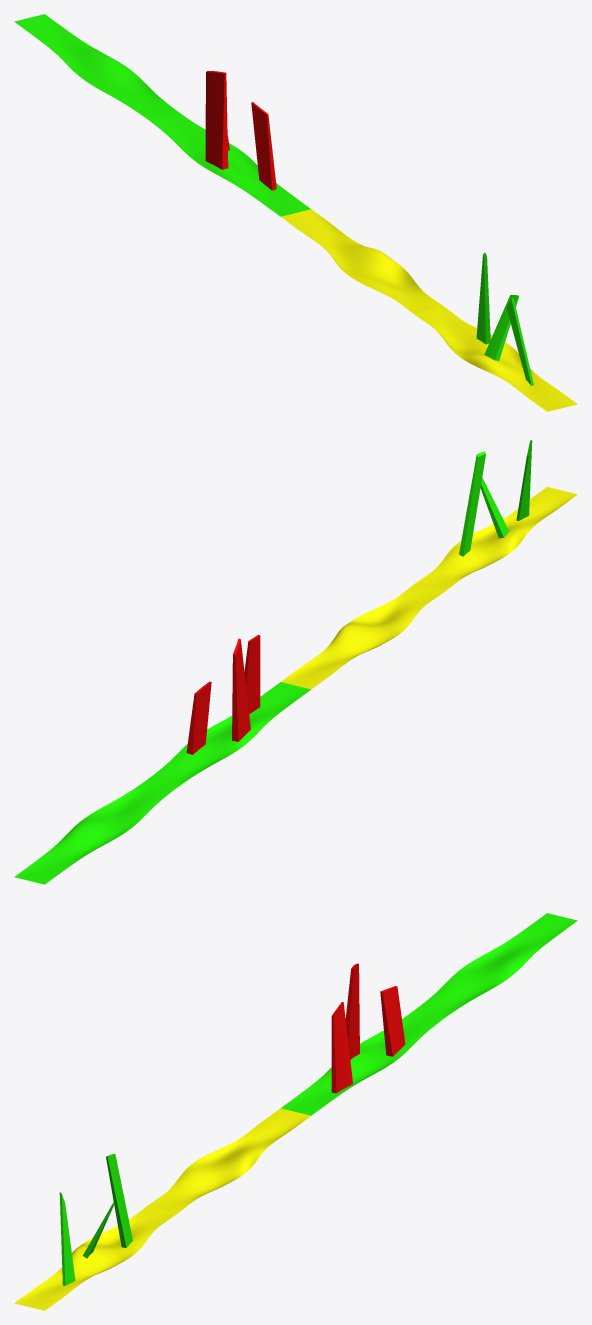
The model's file is Rhino-fulltrack.FBX.
3 views of the same model, one above another, from view 1: azimuth 30°, elevation 25°; view 2: azimuth 150°, elevation 25°; view 3: azimuth 330°, elevation 25° (orthographic).
Parts seen in each view (by area): view 1: Object006; view 2: Object006; view 3: Object006.
Part boxes in pixels (x1,y1,x2,y2): Object006: [14, 14, 577, 411]; Object006: [14, 440, 577, 884]; Object006: [14, 913, 577, 1310].
Bounding box in the file's own units: 2572 × 4993 × 47881.
